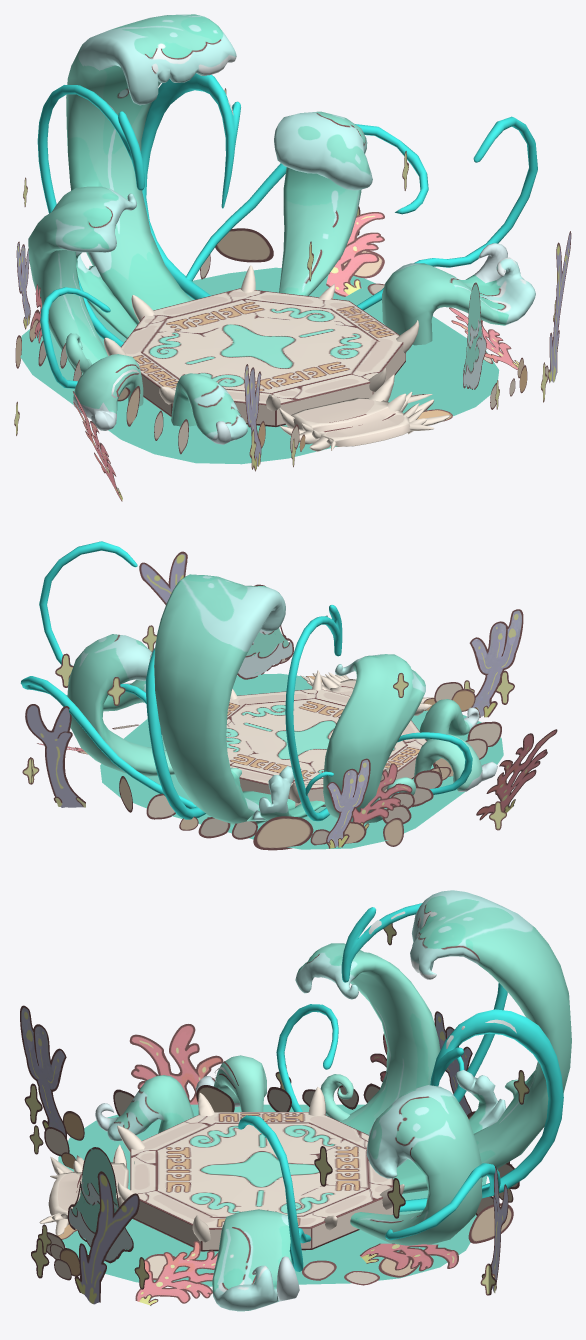
Rendered from Mesh_Home_S0_Tortoise_Black_SM.fbx.
3 views of the same model, one above another, from view 1: azimuth 30°, elevation 25°; view 2: azimuth 150°, elevation 25°; view 3: azimuth 270°, elevation 25° (orthographic). The views are drawn at different scales.
Parts seen in each view (by area): view 1: Mesh_Home_S0_Tortoise_Black_Water, Mesh_Home_S0_Tortoise_Black, Mesh_Home_S0_Tortoise_Black_P; view 2: Mesh_Home_S0_Tortoise_Black_Water, Mesh_Home_S0_Tortoise_Black_P, Mesh_Home_S0_Tortoise_Black; view 3: Mesh_Home_S0_Tortoise_Black_Water, Mesh_Home_S0_Tortoise_Black_P, Mesh_Home_S0_Tortoise_Black.
Part boxes in pixels (<box>): Mesh_Home_S0_Tortoise_Black_Water: <box>28,14,537,444</box>; Mesh_Home_S0_Tortoise_Black: <box>104,265,452,451</box>; Mesh_Home_S0_Tortoise_Black_P: <box>14,88,571,501</box>; Mesh_Home_S0_Tortoise_Black_Water: <box>20,541,497,824</box>; Mesh_Home_S0_Tortoise_Black_P: <box>22,551,557,850</box>; Mesh_Home_S0_Tortoise_Black: <box>226,670,435,806</box>; Mesh_Home_S0_Tortoise_Black_Water: <box>67,890,571,1311</box>; Mesh_Home_S0_Tortoise_Black_P: <box>20,923,529,1305</box>; Mesh_Home_S0_Tortoise_Black: <box>39,1087,404,1251</box>.
Size of the model in its own units: 504 by 319 by 447.
